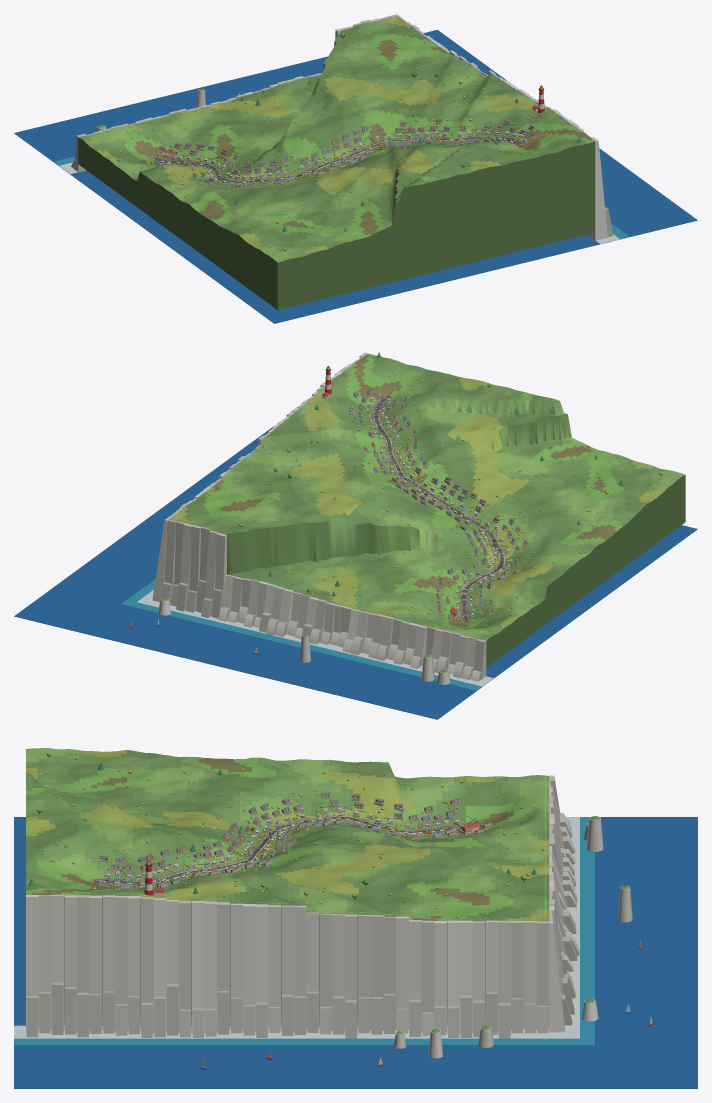
3 renders of one model, top to bottom at view 1: azimuth 30°, elevation 25°; view 2: azimuth 150°, elevation 25°; view 3: azimuth 270°, elevation 25°, orthographic. The views are drawn at different scales.
Parts seen in each view (by area): view 1: grass, theme, buildings, hay, road; view 2: grass, theme, buildings, road, hay; view 3: theme, grass, buildings, hay, road.
Boxes of the visible parts, x1,y1,x2,y2 form: grass: (78,16,595,309); theme: (14,14,697,323); buildings: (141,85,544,187); hay: (152,136,524,183); road: (153,137,522,182); grass: (169,353,685,667); theme: (14,352,697,719); buildings: (321,366,528,620); road: (374,396,504,621); hay: (373,395,504,622); theme: (14,754,697,1088); grass: (26,748,549,1014); buildings: (98,792,492,896); hay: (94,816,479,884); road: (95,817,476,883).
Size of the model in its own units: 648 by 182 by 690.
